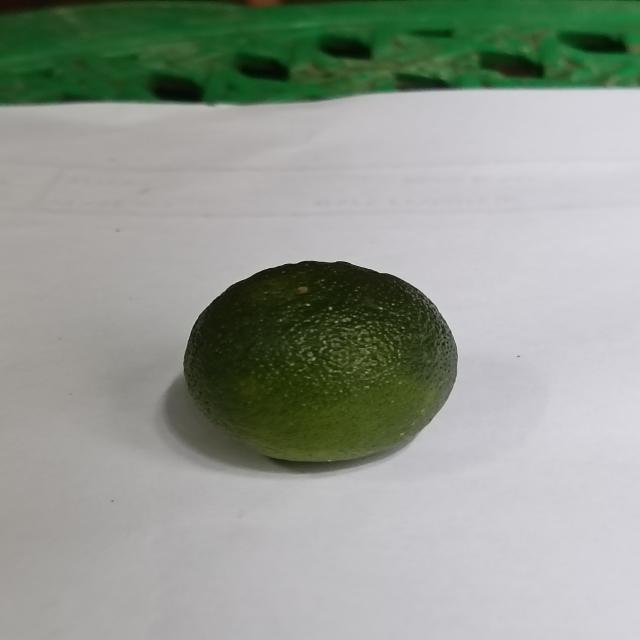heathy: (184, 259, 466, 467)
